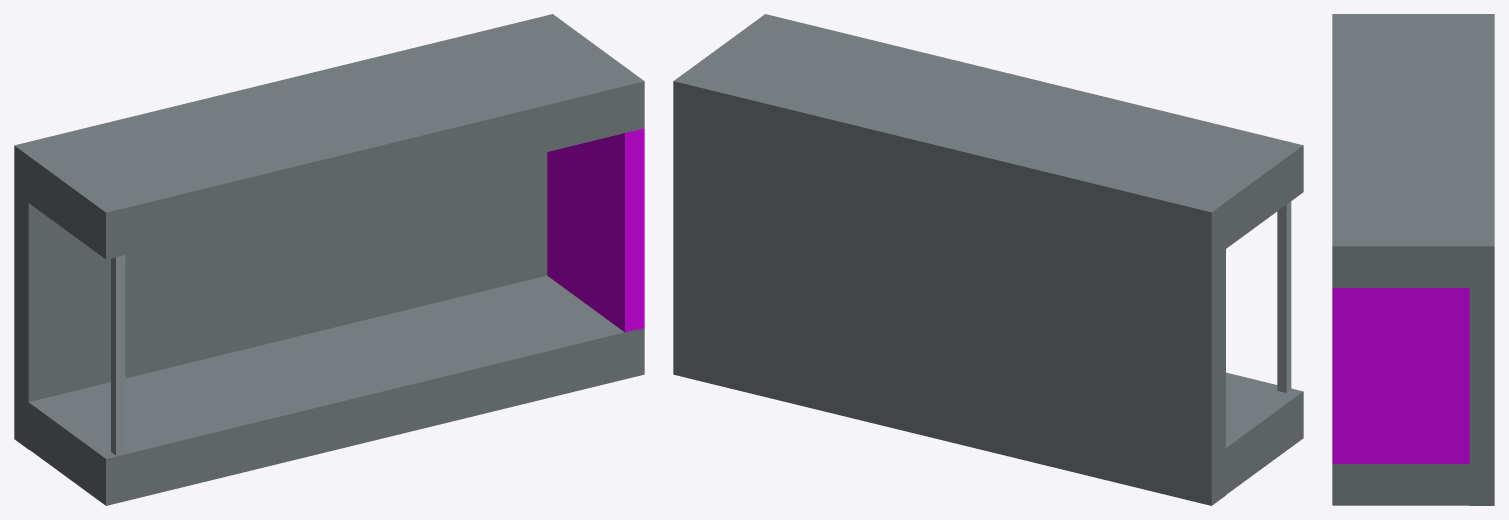
File: building 5.fbx
3 renders of one model, left to right at view 1: azimuth 30°, elevation 25°; view 2: azimuth 150°, elevation 25°; view 3: azimuth 270°, elevation 25°, orthographic. The views are drawn at different scales.
Parts seen in each view (by area): view 1: pCube10, pCube12, pCube11, pCube14, pCube13; view 2: pCube10, pCube12, pCube11, pCube13; view 3: pCube12, pCube14, pCube10, pCube11.
Part boxes in pixels (box(x1,y1,x2,y2)): pCube10: box(14, 14, 566, 449); pCube12: box(28, 24, 644, 259); pCube11: box(28, 275, 644, 505); pCube14: box(547, 128, 644, 332); pCube13: box(111, 255, 125, 455); pCube10: box(673, 71, 1225, 505); pCube12: box(688, 14, 1303, 248); pCube11: box(1226, 372, 1303, 494); pCube13: box(1277, 201, 1291, 392); pCube12: box(1332, 14, 1469, 287); pCube14: box(1332, 288, 1469, 463); pCube10: box(1469, 14, 1494, 505); pCube11: box(1332, 464, 1469, 505).
Bounding box in the file's own units: 12 × 6.25 × 3.55.
